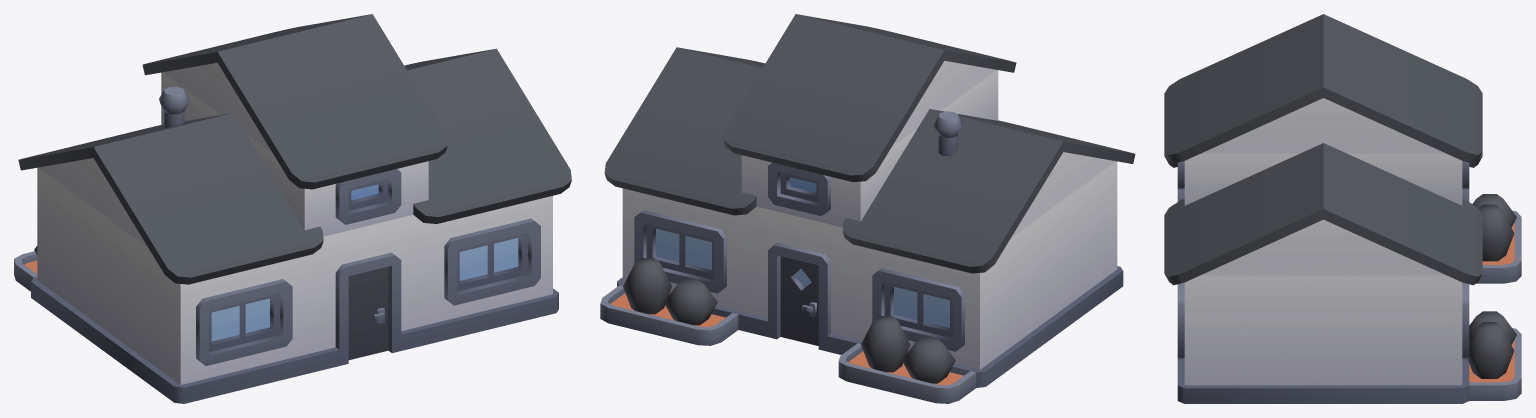
Rendered from farmhouse_a.glb.
3 views of the same model, side by side, from view 1: azimuth 30°, elevation 25°; view 2: azimuth 150°, elevation 25°; view 3: azimuth 270°, elevation 25° (orthographic). The views are drawn at different scales.
Visible parts, largest first — view 1: building-type-a; view 2: building-type-a; view 3: building-type-a.
Part boxes in pixels (x1,y1,x2,y2): building-type-a: (14, 14, 571, 403); building-type-a: (600, 14, 1135, 403); building-type-a: (1164, 14, 1521, 403).
Bounding box in the file's own units: 1.3 × 0.8335 × 1.03.
1 material, 1 textured.
